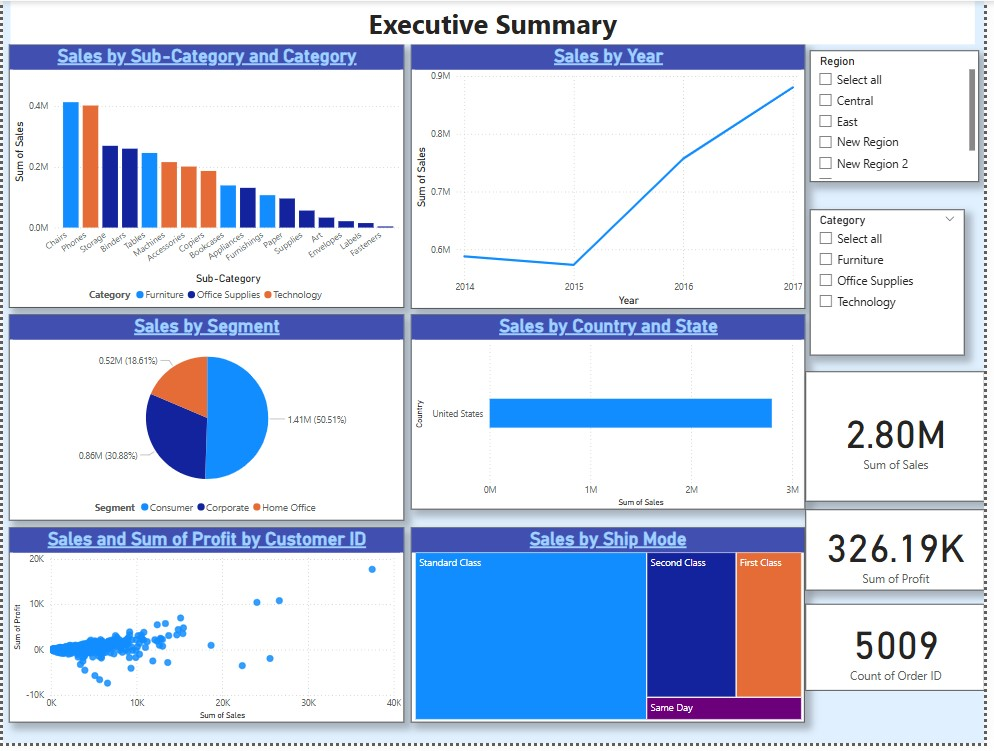

This screenshot's page, from the dashboard's own definition file:
{"tool":"powerbi","page":{"name":"Page 1","canvas":[1360,1028],"ordinal":0},"visuals":[{"type":"columnChart","title":"Sales by Sub-Category and Category","fields":{"Category":["Orders.Sub-Category"],"Y":["Sum(Orders.Sales)"],"Series":["Orders.Category"]},"box":[9.2,60.1,547.5,365],"z":0},{"type":"pieChart","title":"Sales by Segment","fields":{"Y":["Sum(Orders.Sales)"],"Category":["Orders.Segment"]},"box":[9,435,547,285],"z":1000},{"type":"lineChart","title":"Sales by Year","fields":{"Y":["Sum(Orders.Sales)"],"Category":["Orders.Order Date.Variation.Date Hierarchy.Year","Orders.Order Date.Variation.Date Hierarchy.Quarter","Orders.Order Date.Variation.Date Hierarchy.Month","Orders.Order Date.Variation.Date Hierarchy.Day"]},"box":[566,60,546,366],"z":2000},{"type":"barChart","title":"Sales by Country and State","fields":{"Category":["Orders.Country","Orders.State","Orders.City"],"Y":["Sum(Orders.Sales)"]},"box":[566,434,546,270],"z":3000},{"type":"scatterChart","title":"Sales and Sum of Profit by Customer ID","fields":{"Category":["Orders.Customer ID"],"Y":["Sum(Orders.Profit)"],"X":["Sum(Orders.Sales)"]},"box":[9,730,547,270],"z":4000},{"type":"treemap","title":"Sales by Ship Mode","fields":{"Values":["Sum(Orders.Sales)"],"Group":["Orders.Ship Mode"]},"box":[565,730,545,270],"z":5000},{"type":"card","fields":{"Values":["Sum(Orders.Sales)"]},"box":[1112,514,248,180],"z":6000},{"type":"card","fields":{"Values":["Sum(Orders.Profit)"]},"box":[1112,704,248,112],"z":7000},{"type":"slicer","fields":{"Values":["Orders.Region"]},"box":[1118,68,234,182],"z":8000},{"type":"slicer","fields":{"Values":["Orders.Category"]},"box":[1118,288,214,202],"z":9000},{"type":"card","fields":{"Values":["Count(Orders.Order ID)"]},"box":[1112,836,248,120],"z":10000},{"type":"textbox","box":[10,0,1336,60],"z":11000}]}

Visuals, with their boxes in screenshot pixels (x1, y1, x2, y2), scaled from the page's 1360x1028 canvas onto the 994x751 screenshot:
"Sales by Sub-Category and Category" columnChart: region(7, 44, 407, 311)
"Sales by Segment" pieChart: region(7, 318, 406, 526)
"Sales by Year" lineChart: region(414, 44, 813, 311)
"Sales by Country and State" barChart: region(414, 317, 813, 514)
"Sales and Sum of Profit by Customer ID" scatterChart: region(7, 533, 406, 731)
"Sales by Ship Mode" treemap: region(413, 533, 811, 731)
card - Sum(Orders.Sales): region(813, 376, 993, 507)
card - Sum(Orders.Profit): region(813, 514, 993, 596)
slicer - Orders.Region: region(817, 50, 988, 183)
slicer - Orders.Category: region(817, 210, 974, 358)
card - Count(Orders.Order ID): region(813, 611, 993, 698)
textbox: region(7, 0, 984, 44)
